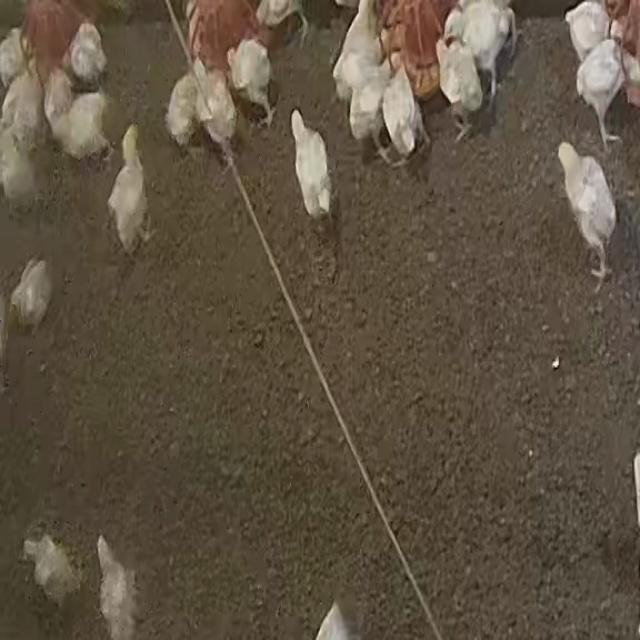chicken: (551, 138, 625, 299), (102, 121, 158, 257), (286, 106, 337, 227), (17, 529, 85, 608), (435, 39, 483, 144), (228, 37, 282, 129), (0, 254, 60, 332)
